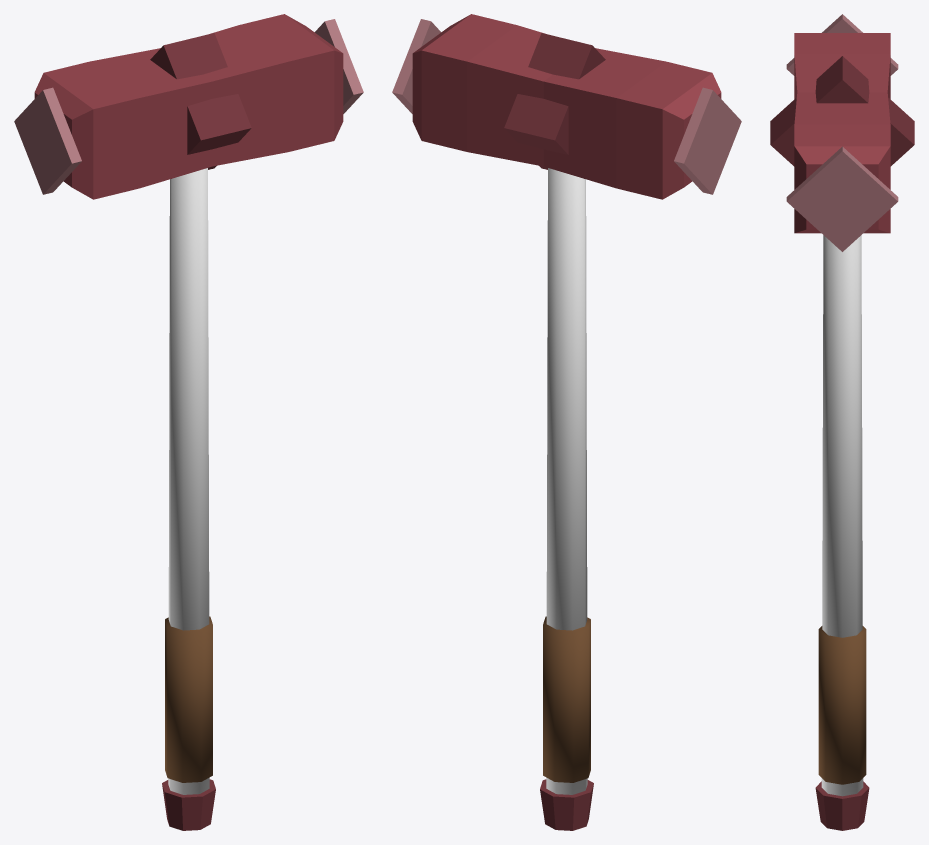
The model's file is pwnhammer.glb.
3 views of the same model, side by side, from view 1: azimuth 30°, elevation 25°; view 2: azimuth 150°, elevation 25°; view 3: azimuth 270°, elevation 25° (orthographic). The views are drawn at different scales.
Visible parts, largest first — view 1: pwnhammer_v0; view 2: pwnhammer_v0; view 3: pwnhammer_v0.
Boxes of the visible parts, x1,y1,x2,y2 form: pwnhammer_v0: (14, 14, 363, 830); pwnhammer_v0: (392, 14, 741, 830); pwnhammer_v0: (770, 14, 914, 830).
Bounding box in the file's own units: 0.344 × 0.8813 × 0.1526.
